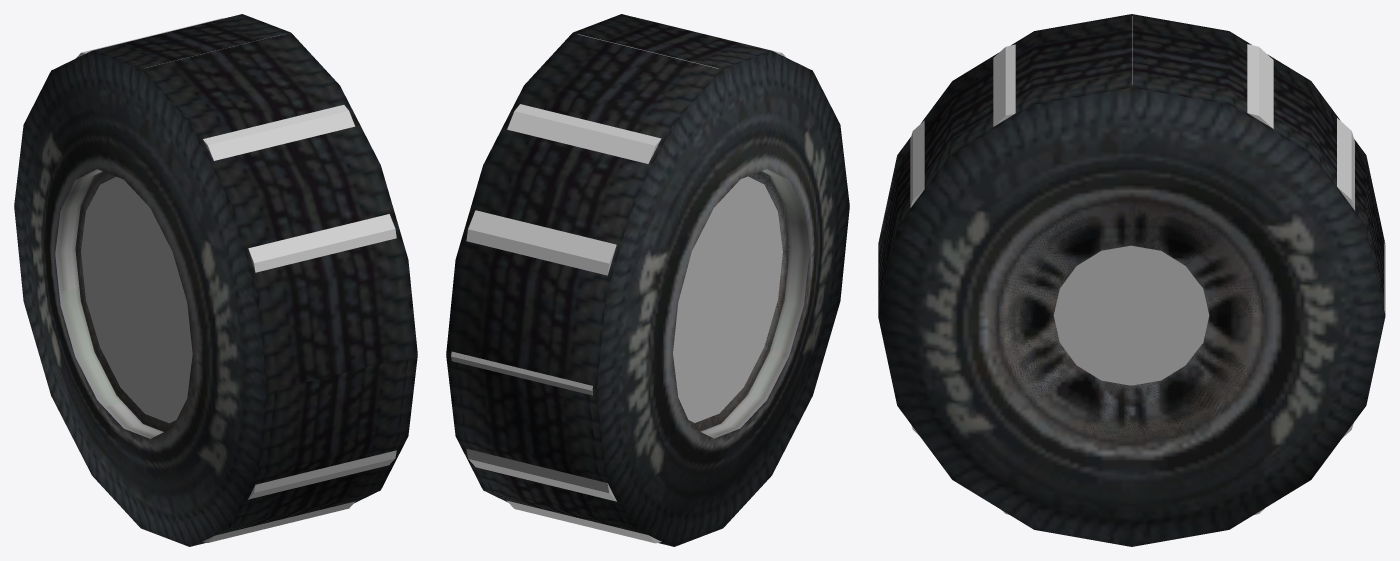
Rendered from tire_9_out.fbx.
The picture shows the model from 3 angles, left to right: view 1: azimuth 30°, elevation 25°; view 2: azimuth 150°, elevation 25°; view 3: azimuth 270°, elevation 25°; orthographic projection.
Visible parts, largest first — view 1: tire_fr, tire_fl_shadow, tire_fl; view 2: tire_fr, tire_fl_shadow, tire_fl; view 3: tire_fr, tire_fl_shadow.
Boxes of the visible parts, bbox=[...] form: tire_fr: bbox=[14, 14, 417, 546]; tire_fl_shadow: bbox=[76, 18, 396, 542]; tire_fl: bbox=[75, 171, 408, 544]; tire_fr: bbox=[446, 14, 849, 546]; tire_fl_shadow: bbox=[451, 18, 785, 543]; tire_fl: bbox=[456, 171, 789, 544]; tire_fr: bbox=[878, 14, 1385, 546]; tire_fl_shadow: bbox=[910, 16, 1385, 514].
Size of the model in its own units: 0.3053 by 0.7198 by 0.7199.
